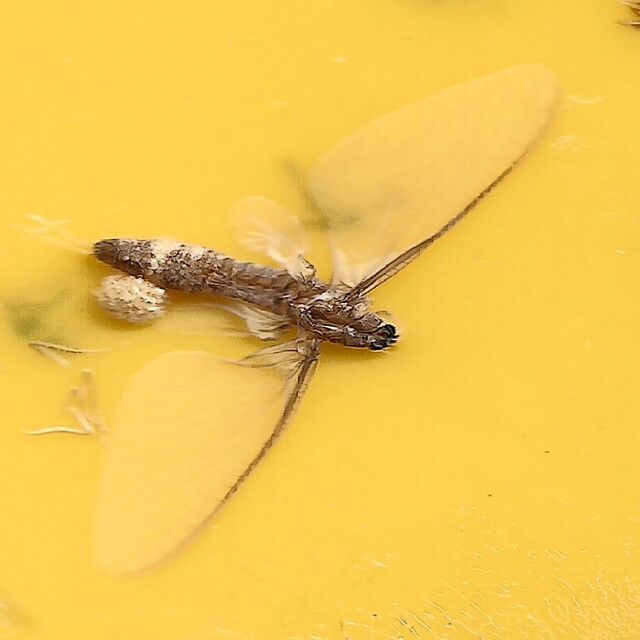Ephemeroptera: (80, 63, 560, 577)
